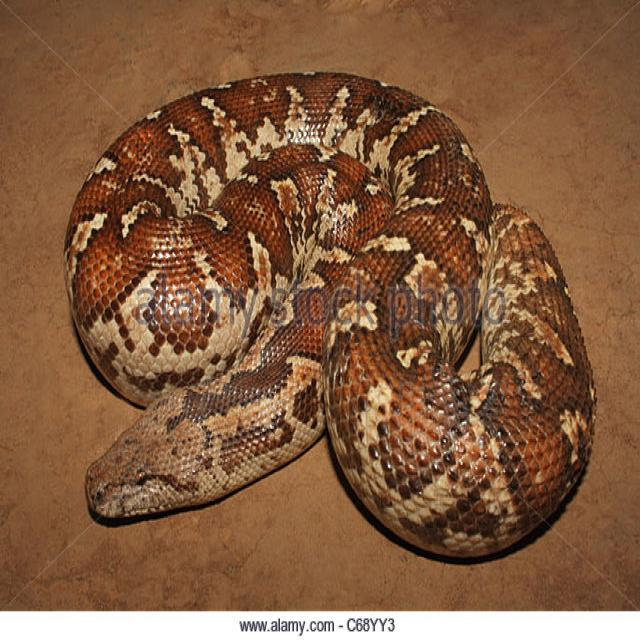Snake: (62, 68, 597, 560)
